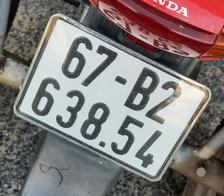2: (142, 76, 188, 130)
3: (52, 85, 90, 134)
4: (131, 124, 171, 173)
5: (107, 112, 147, 161)
6: (57, 32, 97, 84), (27, 73, 65, 121)
7: (77, 42, 122, 95)
8: (75, 97, 115, 144)
B: (119, 64, 164, 117)
